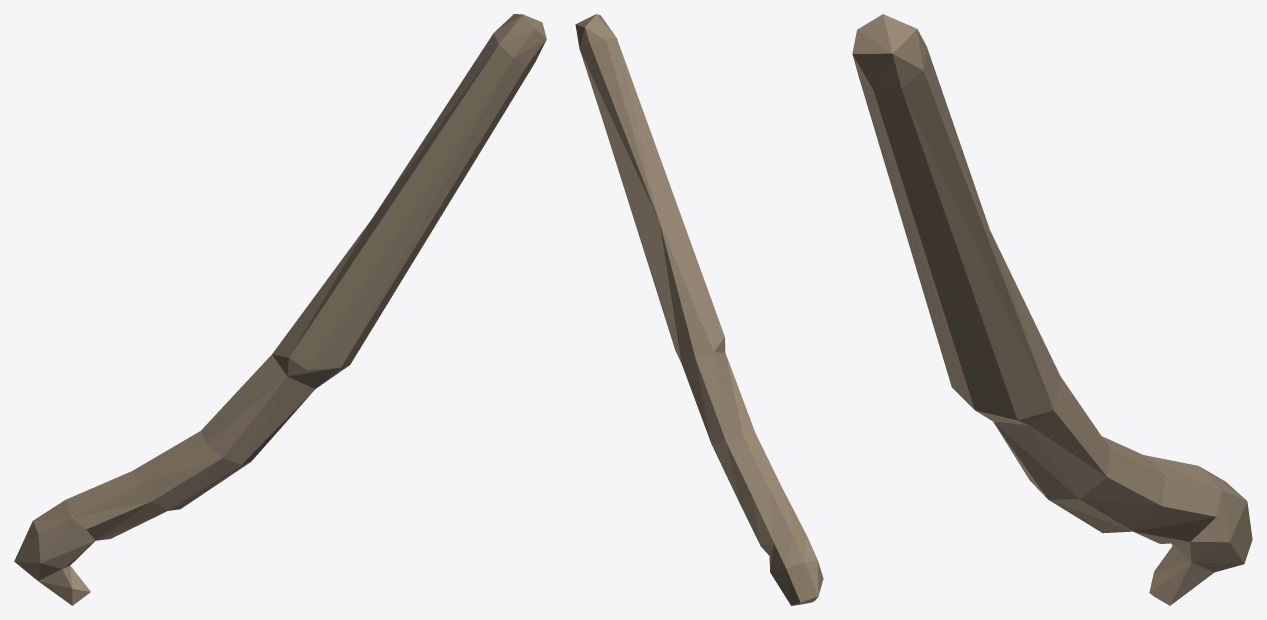
Rendered from ant-tarsus-front-left.dae.
3 views of the same model, side by side, from view 1: azimuth 30°, elevation 25°; view 2: azimuth 150°, elevation 25°; view 3: azimuth 270°, elevation 25° (orthographic). The views are drawn at different scales.
Visible parts, largest first — view 1: ant-tarsus-front-left; view 2: ant-tarsus-front-left; view 3: ant-tarsus-front-left.
Boxes of the visible parts, bbox=[...] form: ant-tarsus-front-left: bbox=[14, 14, 546, 605]; ant-tarsus-front-left: bbox=[575, 14, 823, 605]; ant-tarsus-front-left: bbox=[852, 14, 1252, 605].
Bounding box in the file's own units: 2.72 × 1.55 × 3.59.
